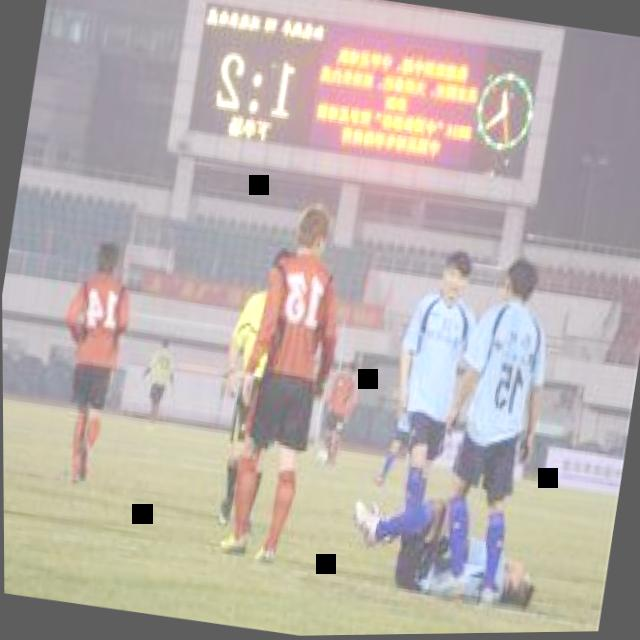Fall-Detected: (341, 458, 560, 619)
